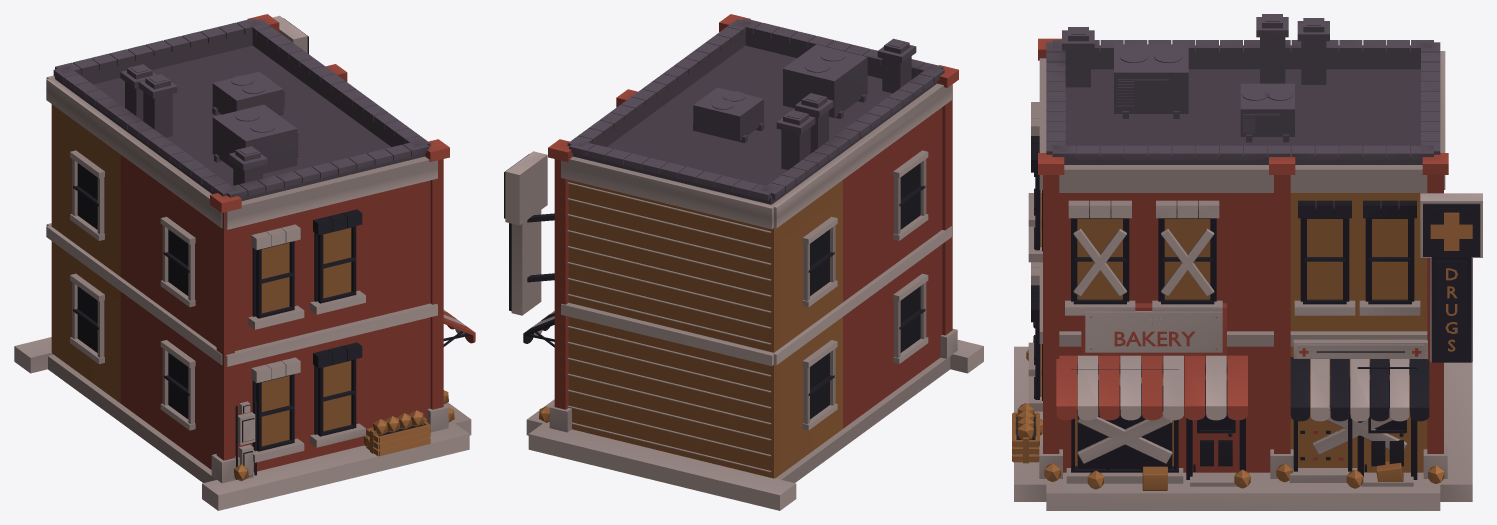
The picture shows the model from 3 angles, left to right: view 1: azimuth 30°, elevation 25°; view 2: azimuth 150°, elevation 25°; view 3: azimuth 270°, elevation 25°; orthographic projection. The views are drawn at different scales.
Visible parts, largest first — view 1: root_pal_brick, root_pal_sidewalk, roof_pal_asphalt, root_pal_woodWarm, root_pal_uiDark; view 2: root_pal_woodWarm, root_pal_sidewalk, roof_pal_asphalt, root_pal_brick, root_pal_uiDark; view 3: root_pal_sidewalk, roof_pal_asphalt, root_pal_brick, root_pal_uiDark, root_pal_woodWarm, door_bakery_pal_uiDark, door_pharmacy_pal_uiDark.
Boxes of the visible parts, x1=… form: root_pal_brick: x1=120, y1=14, x2=475, y2=471; root_pal_sidewalk: x1=14, y1=15, x2=471, y2=510; roof_pal_asphalt: x1=53, y1=18, x2=430, y2=200; root_pal_woodWarm: x1=51, y1=104, x2=454, y2=481; root_pal_uiDark: x1=73, y1=18, x2=471, y2=479; root_pal_woodWarm: x1=538, y1=180, x2=842, y2=478; root_pal_sidewalk: x1=505, y1=83, x2=983, y2=510; roof_pal_asphalt: x1=567, y1=18, x2=944, y2=204; root_pal_brick: x1=548, y1=14, x2=958, y2=428; root_pal_uiDark: x1=504, y1=154, x2=925, y2=419; root_pal_sidewalk: x1=1014, y1=51, x2=1482, y2=510; roof_pal_asphalt: x1=1046, y1=14, x2=1440, y2=164; root_pal_brick: x1=1038, y1=38, x2=1448, y2=472; root_pal_uiDark: x1=1016, y1=136, x2=1480, y2=479; root_pal_woodWarm: x1=1012, y1=190, x2=1472, y2=490; door_bakery_pal_uiDark: x1=1193, y1=380, x2=1235, y2=471; door_pharmacy_pal_uiDark: x1=1364, y1=380, x2=1406, y2=471.
Bounding box in the file's own units: 7.39 × 8.55 × 9.7.
